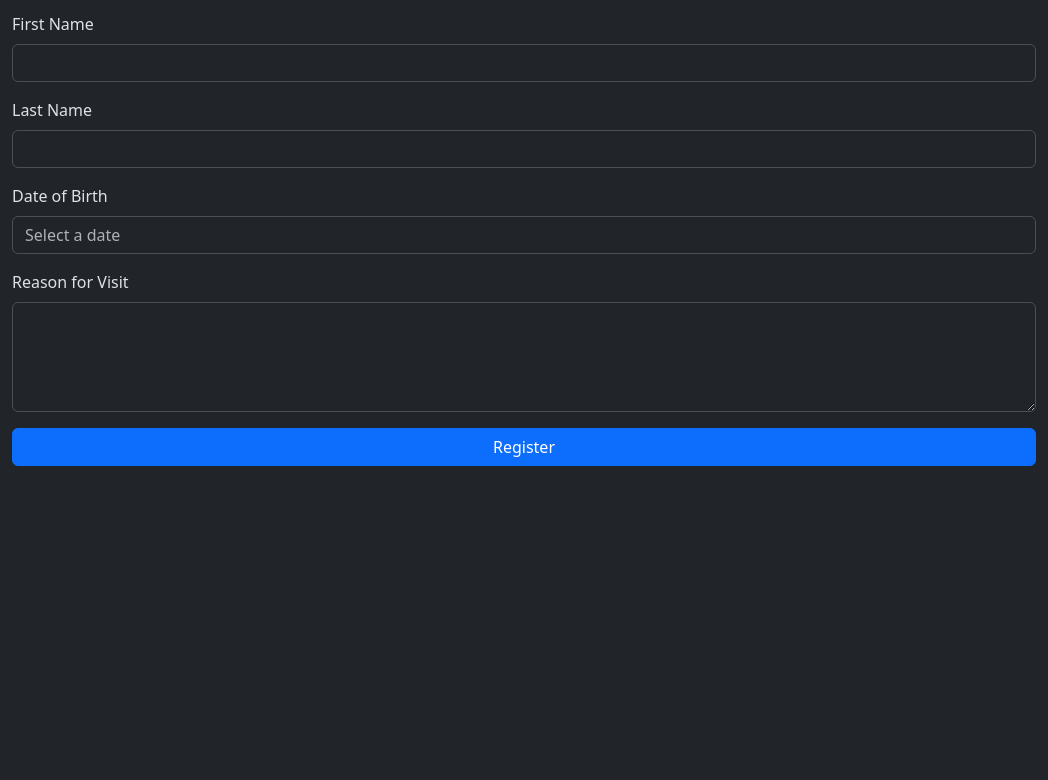
Test: RegistrationForm › client-side validation › preserves entered values after failed validation
In the field labelled "First Name": [524, 63] box left=12, top=44, right=1036, bottom=82, type "Sofia"
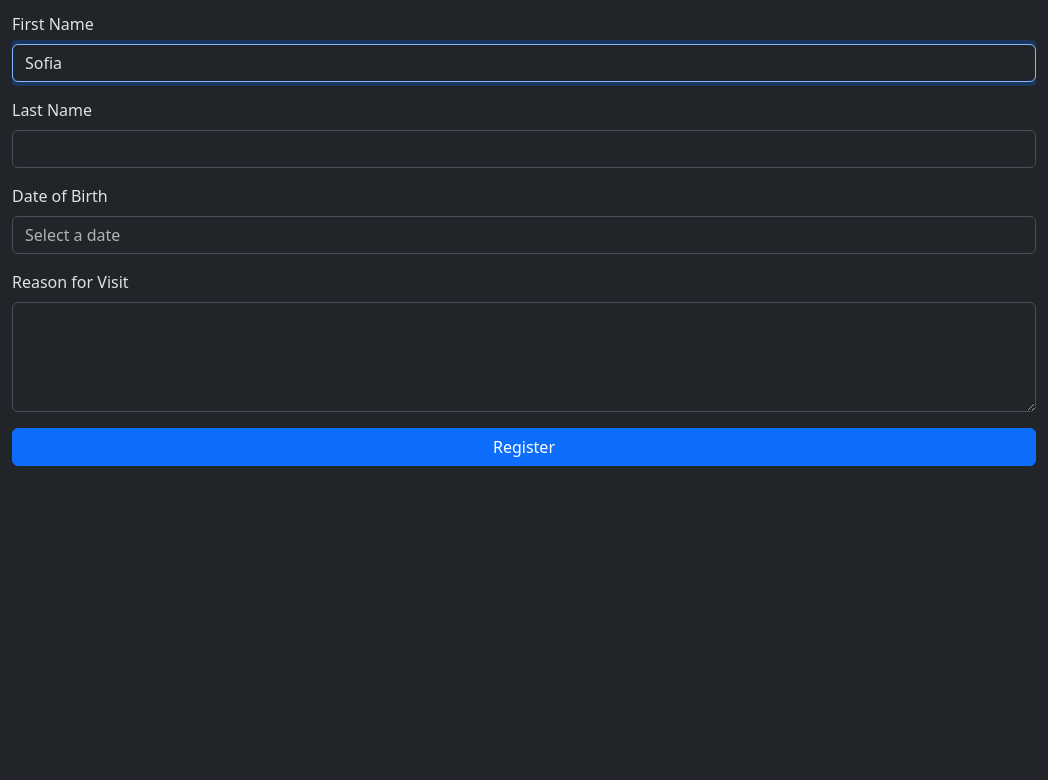
Click the button "Register": [524, 447] box left=12, top=428, right=1036, bottom=466
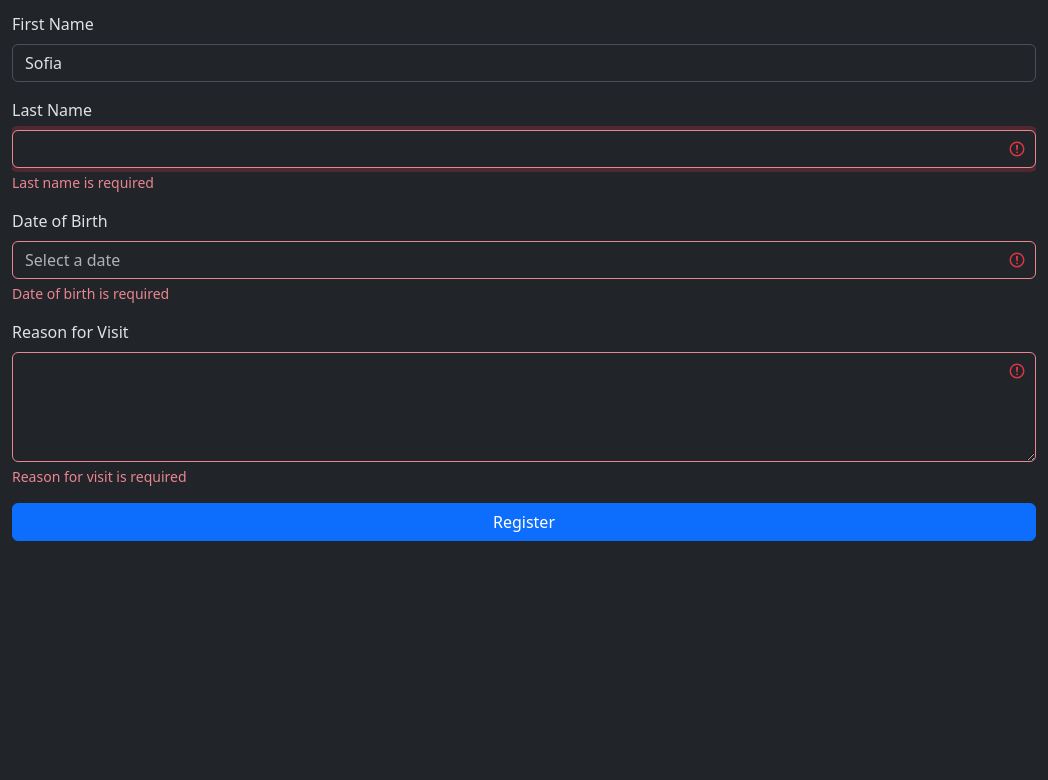
Check: the field labelled "Last Name" is empty, box left=12, top=130, right=1036, bottom=168
Check: the text "Last name is required" is shown, box left=12, top=173, right=154, bottom=192
